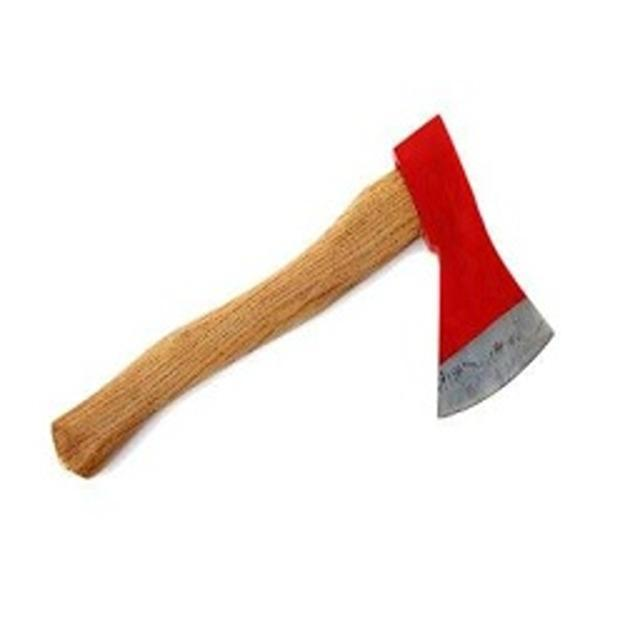ax: (47, 100, 561, 482)
